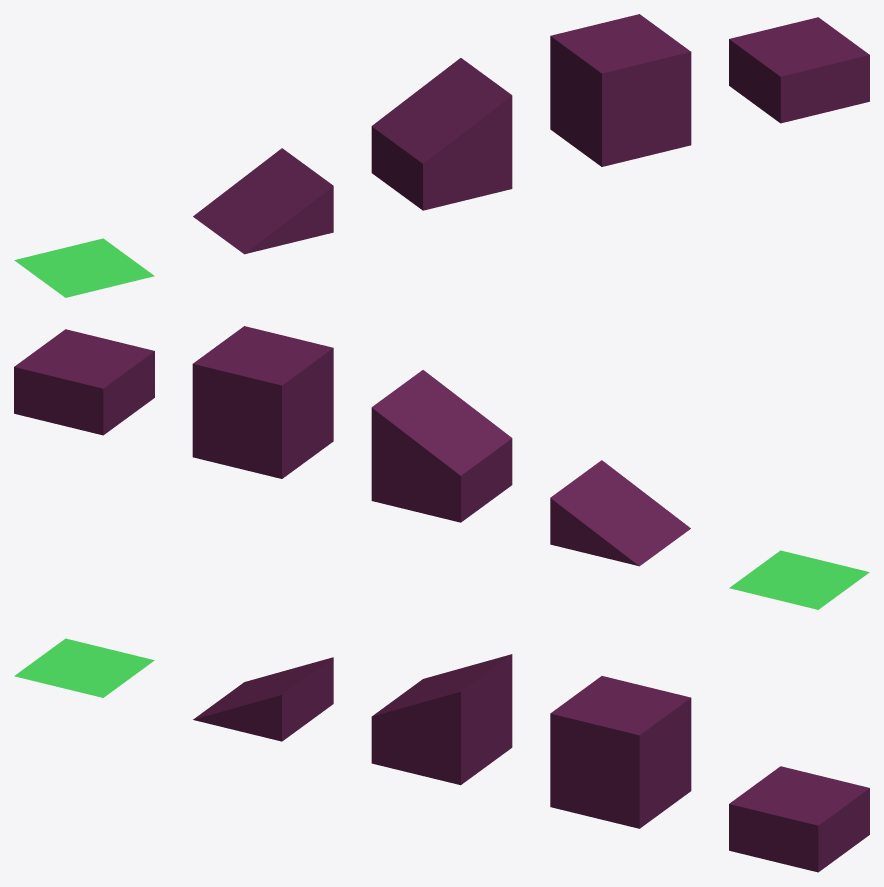
Rendered from geometry_gridmap_meshes.glb.
3 renders of one model, top to bottom at view 1: azimuth 30°, elevation 25°; view 2: azimuth 150°, elevation 25°; view 3: azimuth 330°, elevation 25°, orthographic.
Visible parts, largest first — view 1: cube-col, tall_ramp_60-col, cube2-col, short_ramp_60-col, plane-col; view 2: cube-col, tall_ramp_60-col, cube2-col, short_ramp_60-col, plane-col; view 3: cube-col, tall_ramp_60-col, cube2-col, short_ramp_60-col, plane-col.
Part boxes in pixels (<box>): cube-col: <box>550,14,691,166</box>; tall_ramp_60-col: <box>371,58,512,210</box>; cube2-col: <box>729,17,869,123</box>; short_ramp_60-col: <box>193,148,333,254</box>; plane-col: <box>14,238,154,297</box>; cube-col: <box>192,326,333,478</box>; tall_ramp_60-col: <box>371,370,512,522</box>; cube2-col: <box>14,329,154,435</box>; short_ramp_60-col: <box>550,460,690,566</box>; plane-col: <box>729,550,869,609</box>; cube-col: <box>550,676,691,828</box>; tall_ramp_60-col: <box>371,654,512,785</box>; cube2-col: <box>729,766,869,872</box>; short_ramp_60-col: <box>193,657,333,741</box>; plane-col: <box>14,638,154,697</box>.
Bounding box in the file's own units: 18 × 2 × 2.
